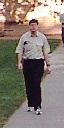person: (16, 19, 48, 110)
